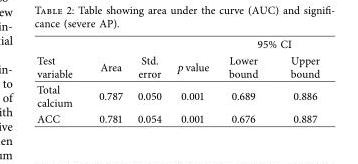table: (36, 36, 319, 125)
table column: (218, 36, 273, 125), (168, 36, 218, 125), (36, 36, 84, 125), (273, 36, 319, 125), (84, 36, 129, 125), (129, 36, 168, 125)
table column header: (36, 36, 319, 81)
table row: (36, 52, 319, 81), (36, 81, 319, 110), (36, 36, 319, 52), (36, 110, 319, 125)
table spanning cell: (168, 36, 218, 81), (36, 36, 84, 81), (84, 36, 129, 81), (129, 36, 168, 81), (218, 36, 319, 52)
